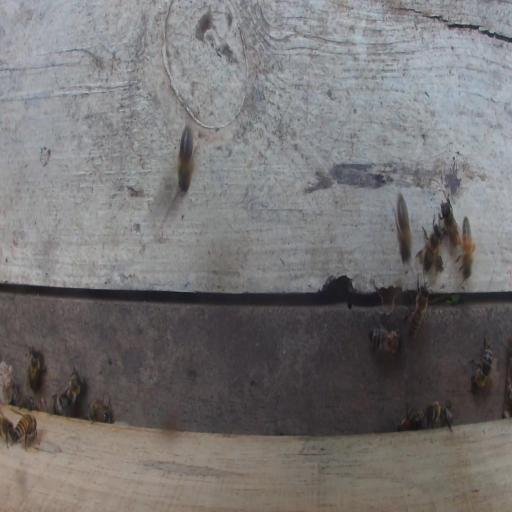nonpollenbee: (405, 273, 431, 341), (417, 221, 444, 272), (469, 333, 493, 390), (395, 191, 412, 267), (178, 125, 195, 193), (9, 413, 38, 452), (440, 196, 461, 249), (58, 368, 83, 408), (369, 325, 400, 357), (397, 404, 427, 431), (426, 401, 453, 430), (87, 396, 113, 423), (27, 347, 42, 390), (0, 411, 14, 448), (52, 394, 68, 414)
pollenbee: (456, 212, 478, 283)
